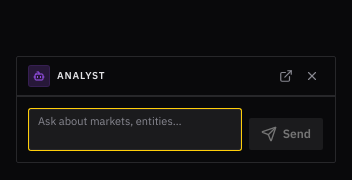
Test: AskAiPanel — error states › shows error message when server returns non-200 status
The width and height of the screenshot is (352, 180).
In the text box with placeholder "Ask about markets, entities…": (135, 130) [29, 109, 241, 150], type "503 test"
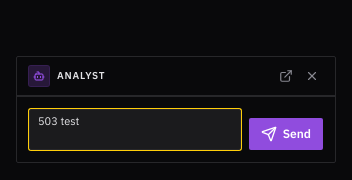
Click the button with aria-label "send message": (286, 134) [249, 118, 323, 150]
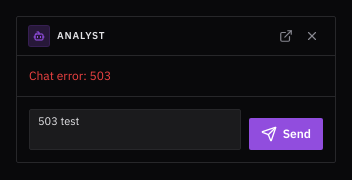
Check: the text "Chat error: 503" is shown, box [29, 68, 111, 83]
